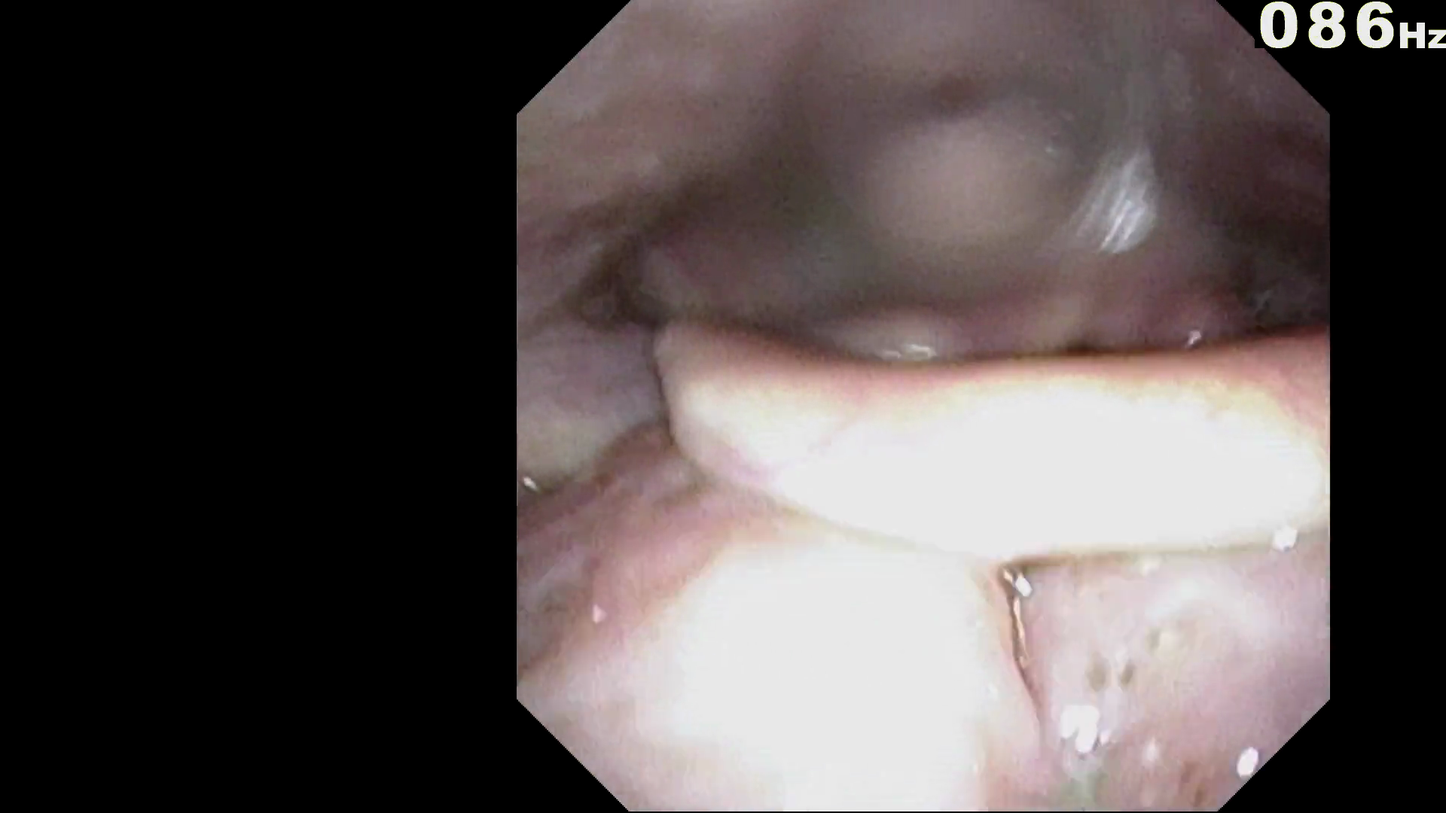epiglottis: (678, 332, 1314, 557)
trachea: (1048, 370, 1150, 455)
